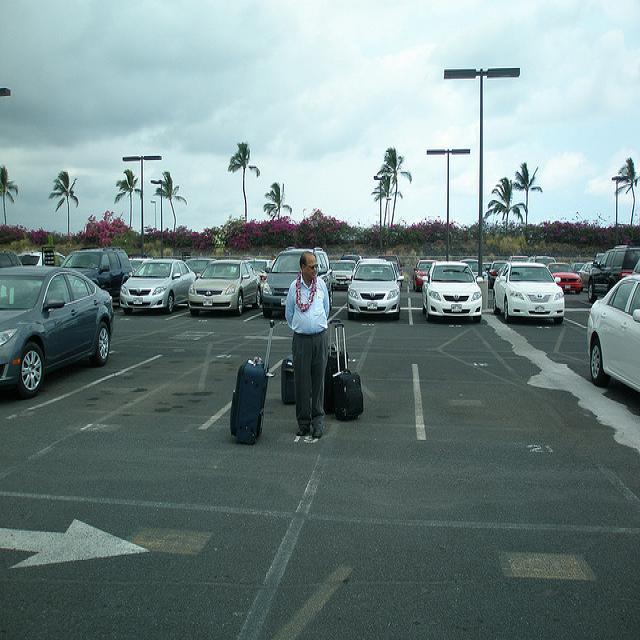Vehicle: (0, 247, 604, 292), (0, 266, 121, 398), (586, 273, 640, 397), (261, 248, 333, 320), (118, 259, 198, 319), (491, 261, 565, 325), (59, 246, 135, 304), (189, 260, 263, 318), (419, 259, 483, 321), (346, 255, 402, 318), (587, 247, 640, 302), (549, 262, 584, 294), (18, 248, 67, 267), (332, 260, 356, 289)
